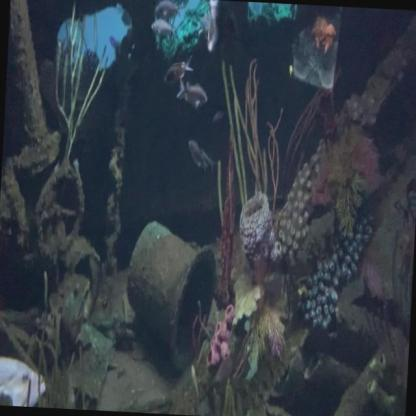fish: (0, 352, 50, 408), (175, 77, 208, 111), (185, 138, 213, 175), (163, 56, 194, 88), (195, 143, 220, 177), (149, 18, 177, 40), (152, 0, 180, 21), (211, 106, 225, 127)
